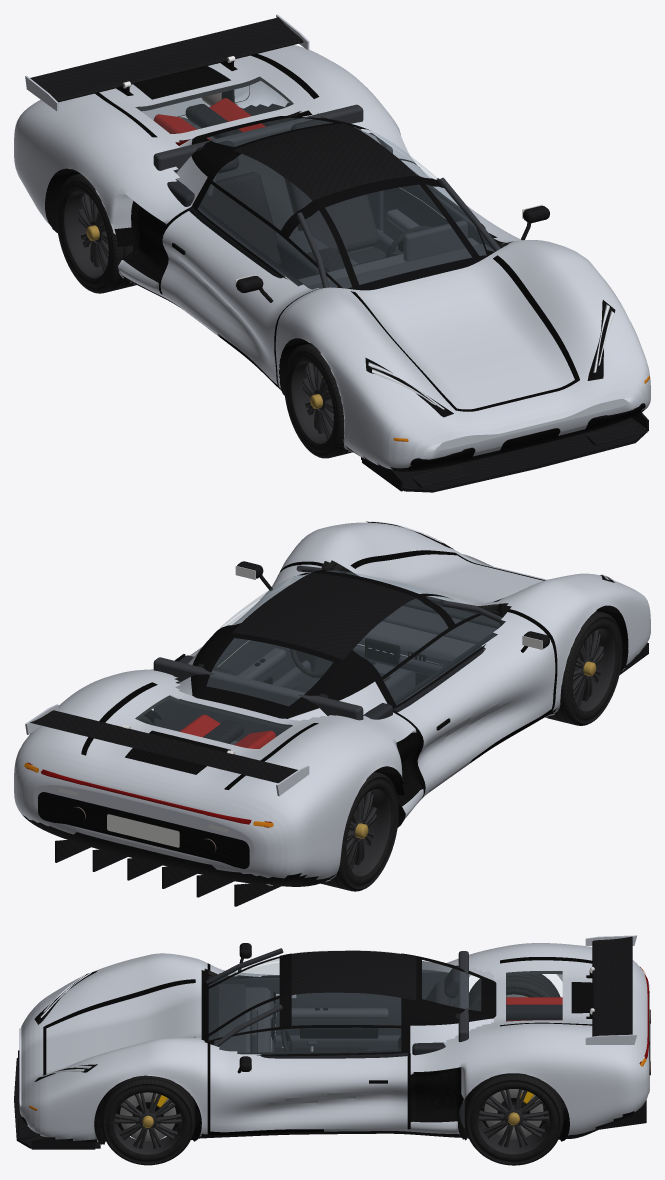
File: car_hyper.glb
3 renders of one model, top to bottom at view 1: azimuth 30°, elevation 25°; view 2: azimuth 150°, elevation 25°; view 3: azimuth 270°, elevation 25°, orthographic. The views are drawn at different scales.
Parts seen in each view (by area): view 1: car_hyper, door_R, frunk, engine_cover, wing_flap, wheel_RR, wheel_FR, door_L, splitter, flap_front_R, flap_front_L; view 2: car_hyper, door_R, engine_cover, diffuser, frunk, wing_flap, wheel_FR, wheel_RR, door_L; view 3: car_hyper, door_L, frunk, wheel_RL, wheel_FL, door_R, engine_cover, wing_flap, wheel_RR, splitter, diffuser.
Part boxes in pixels (<box>): car_hyper: <box>14,45,650,471</box>; door_R: <box>160,152,342,384</box>; frunk: <box>356,258,574,409</box>; engine_cover: <box>99,55,313,141</box>; wing_flap: <box>25,14,309,111</box>; wheel_RR: <box>56,173,136,293</box>; wheel_FR: <box>284,343,352,458</box>; door_L: <box>349,125,549,255</box>; splitter: <box>361,412,648,492</box>; flap_front_R: <box>411,464,470,487</box>; flap_front_L: <box>585,422,644,445</box>; car_hyper: <box>14,521,650,881</box>; door_R: <box>347,599,555,796</box>; engine_cover: <box>86,685,313,789</box>; diffuser: <box>22,815,335,906</box>; frunk: <box>354,554,543,609</box>; wing_flap: <box>25,704,309,796</box>; wheel_FR: <box>545,611,622,725</box>; wheel_RR: <box>320,771,398,891</box>; door_L: <box>175,561,321,684</box>; car_hyper: <box>19,943,650,1144</box>; door_L: <box>208,993,410,1132</box>; frunk: <box>46,983,195,1074</box>; wheel_RL: <box>464,1073,563,1165</box>; wheel_FL: <box>101,1075,194,1165</box>; door_R: <box>208,943,409,1038</box>; engine_cover: <box>500,960,592,1025</box>; wing_flap: <box>585,935,637,1044</box>; wheel_RR: <box>469,974,560,1011</box>; splitter: <box>14,1058,100,1149</box>; diffuser: <box>566,1100,646,1138</box>.
Size of the model in its own units: 2.14 by 1.15 by 4.7.
Materials: 46 (8 with a texture image).
